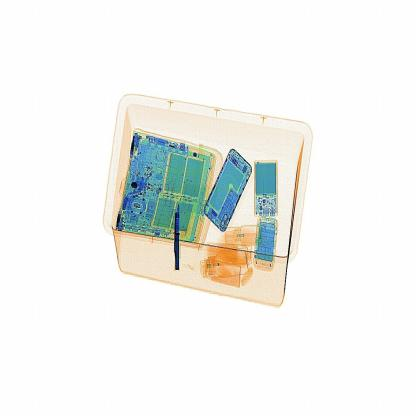pliers: (166, 201, 185, 277)
